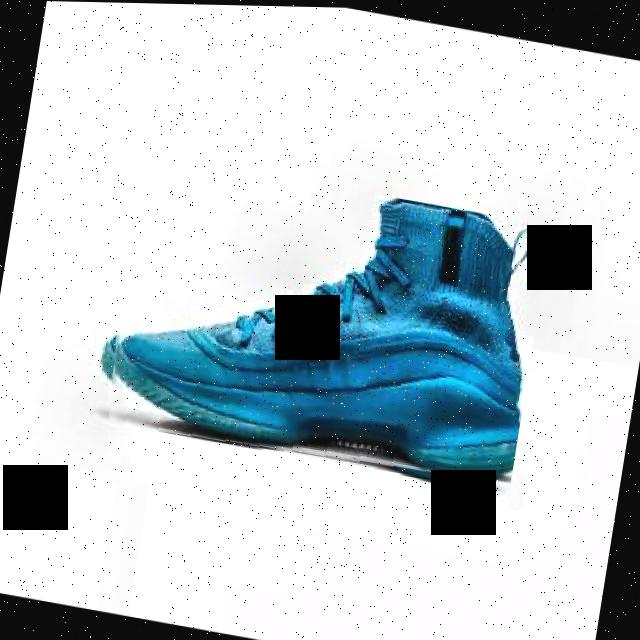shoe: (91, 149, 552, 494)
